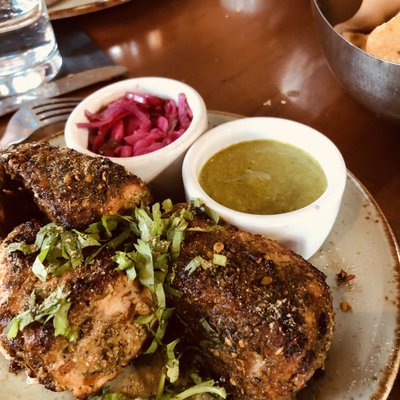burger: (0, 99, 82, 153)
pizza: (0, 0, 63, 120)
sushi: (182, 117, 348, 261), (63, 76, 208, 183), (311, 0, 400, 125)
